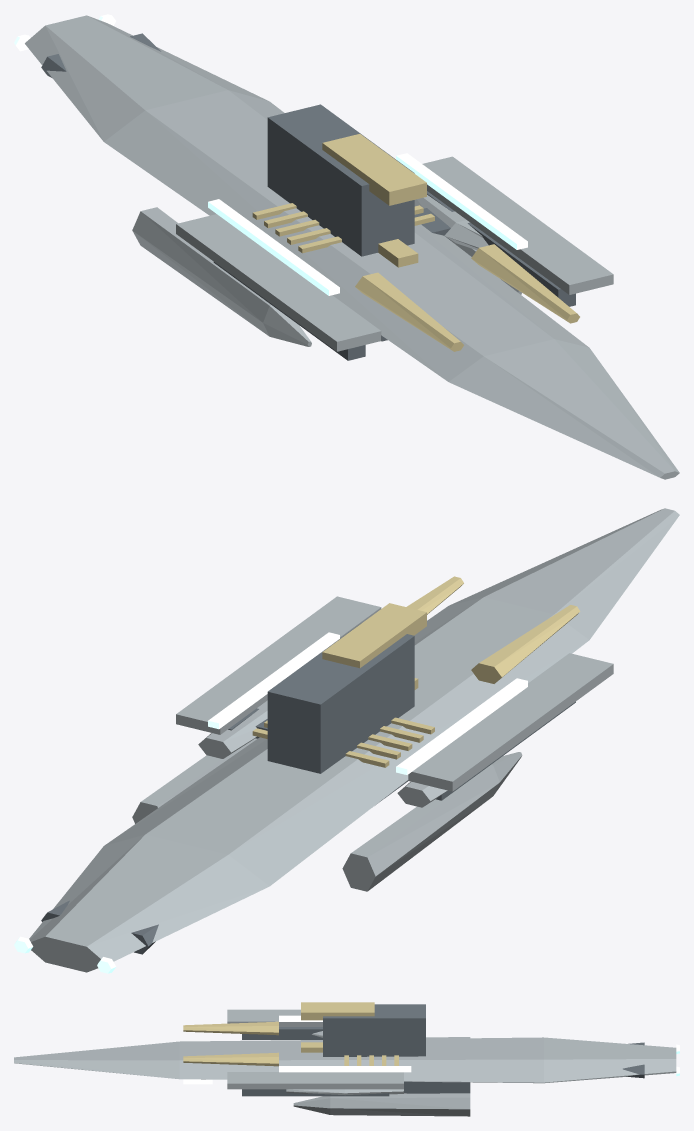
3 views of the same model, one above another, from view 1: azimuth 30°, elevation 25°; view 2: azimuth 150°, elevation 25°; view 3: azimuth 270°, elevation 25° (orthographic). The views are drawn at different scales.
Bounding box in the file's own units: 4.95 × 2.45 × 18.82.
